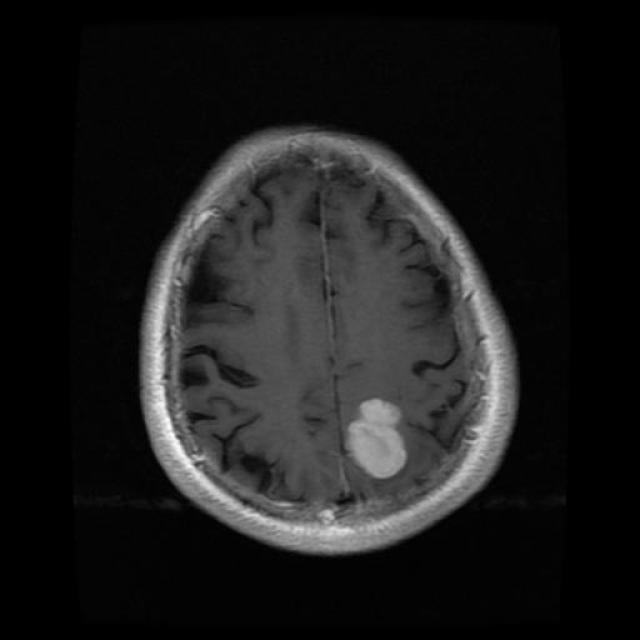meningioma: (345, 399, 408, 479)
